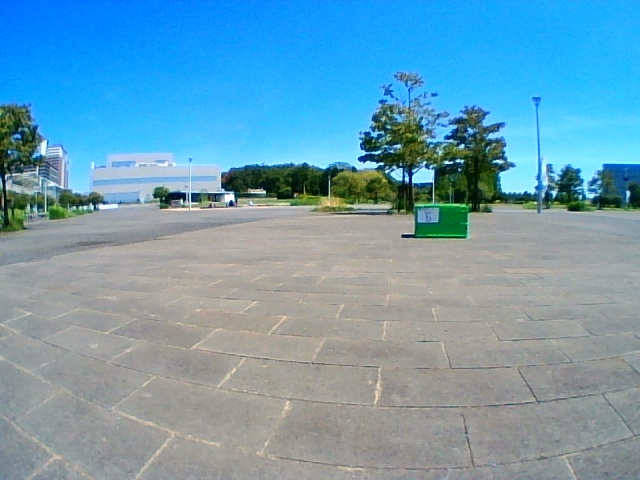green_box: (415, 204, 467, 238)
tag_b: (418, 208, 439, 222)
